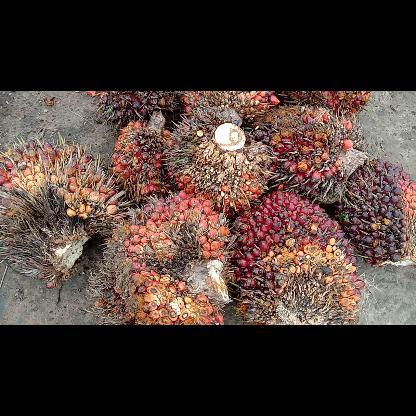TBS masak: (229, 188, 365, 324), (0, 137, 123, 287), (103, 190, 227, 324), (250, 104, 368, 208), (169, 110, 273, 208), (338, 158, 414, 264), (112, 113, 176, 197), (86, 92, 184, 134), (179, 92, 281, 119), (284, 92, 372, 116)
